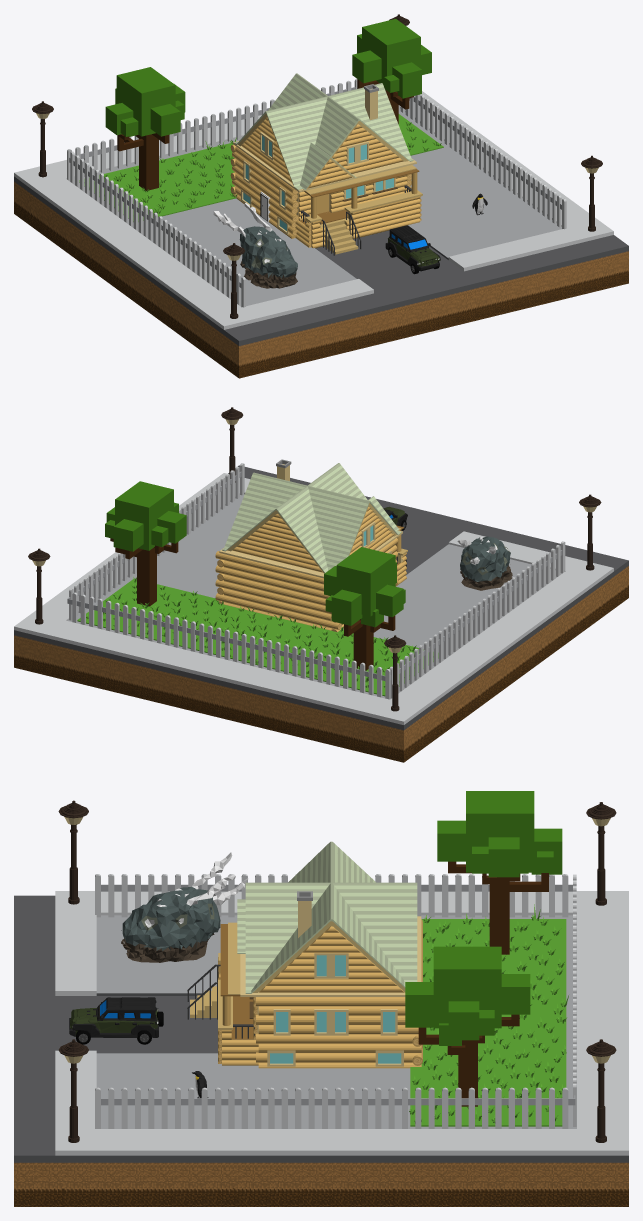
3 views of the same model, one above another, from view 1: azimuth 30°, elevation 25°; view 2: azimuth 150°, elevation 25°; view 3: azimuth 270°, elevation 25° (orthographic). The views are drawn at different scales.
Visible parts, largest first — view 1: Cube.004, Cube.1516, OBJRANDOM_METEORITE, VEHICLES_JEEP; view 2: Cube.004, Cube.1516, OBJRANDOM_METEORITE; view 3: Cube.004, Cube.1516, OBJRANDOM_METEORITE, VEHICLES_JEEP.
Boxes of the visible parts, x1,y1,x2,y2 form: Cube.004: (14,14,628,378); Cube.1516: (230,73,422,255); OBJRANDOM_METEORITE: (213,203,297,288); VEHICLES_JEEP: (385,225,440,274); Cube.004: (14,407,628,762); Cube.1516: (215,459,407,632); OBJRANDOM_METEORITE: (457,536,512,590); Cube.004: (14,791,628,1206); Cube.1516: (187,841,422,1068); OBJRANDOM_METEORITE: (121,852,248,962); VEHICLES_JEEP: (69,997,163,1044).
Bounding box in the file's own units: 4000 × 1577 × 4000.
Materials: 39 (4 with a texture image).
